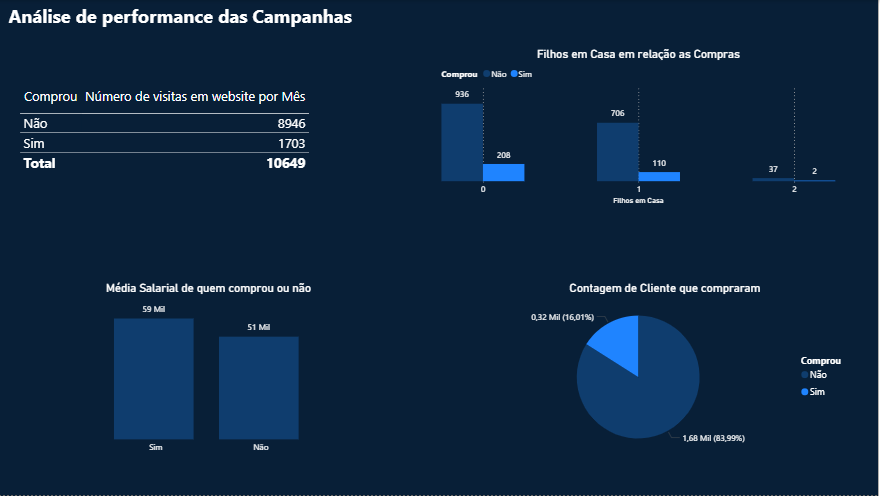

Layout of this report page (visuals, bound fields, positions):
{"tool":"powerbi","page":{"name":"Performance das Campanhas","canvas":[1280,720],"ordinal":2},"visuals":[{"type":"textbox","box":[10.5,0,561.5,68],"z":0},{"type":"pieChart","title":"Contagem de Cliente que compraram","fields":{"Category":["dados marketing.Comprou"],"Y":["CountNonNull(dados marketing.ID)"]},"box":[689.5,408.7,561.5,260.4],"z":1},{"type":"columnChart","title":"Média Salarial de quem comprou ou não","fields":{"Y":["Avg(dados marketing.Salario Anual)"],"Category":["dados marketing.Comprou"]},"box":[26.2,408.7,560,260.4],"z":2},{"type":"tableEx","fields":{"Values":["dados marketing.Comprou","Sum(dados marketing.Numero Visitas WebSite Mes)"]},"box":[26.2,120.7,501.8,155.6],"z":3},{"type":"clusteredColumnChart","title":"Filhos em Casa em relação as Compras","fields":{"Category":["dados marketing.Filhos em Casa"],"Series":["dados marketing.Comprou"],"Y":["CountNonNull(dados marketing.Filhos em Casa)"]},"box":[640,68.4,583.3,234.2],"z":4}]}

Visuals, with their boxes in screenshot pixels (x1, y1, x2, y2), scaled from the page's 1280x720 canvas onto the 880x496 screenshot:
textbox: left=7, top=0, right=393, bottom=47
"Contagem de Cliente que compraram" pieChart: left=474, top=282, right=860, bottom=461
"Média Salarial de quem comprou ou não" columnChart: left=18, top=282, right=403, bottom=461
tableEx - dados marketing.Comprou x Sum(dados marketing.Numero Visitas WebSite Mes): left=18, top=83, right=363, bottom=190
"Filhos em Casa em relação as Compras" clusteredColumnChart: left=440, top=47, right=841, bottom=208
